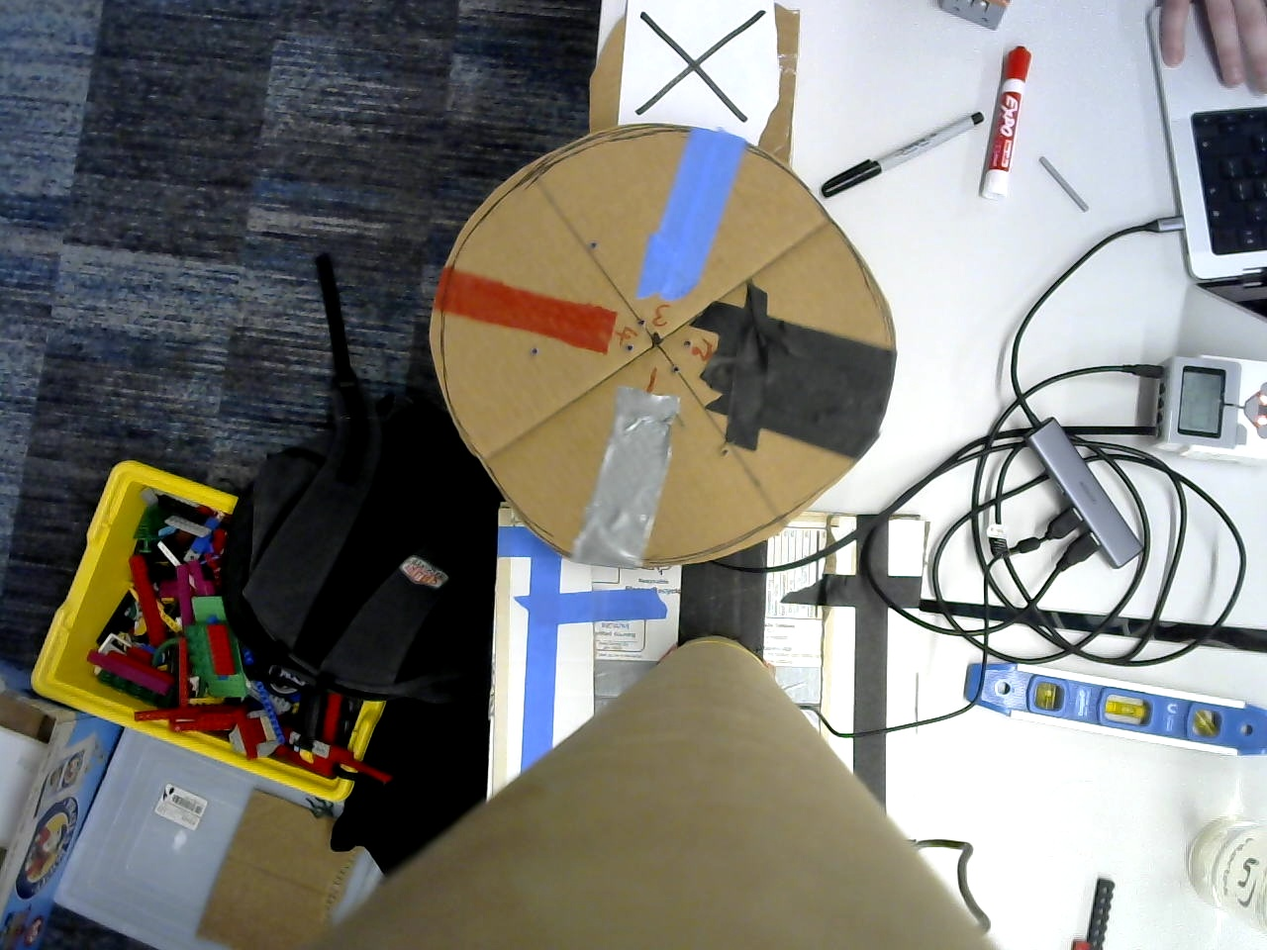black: (1197, 110, 1267, 247)
blue: (636, 128, 746, 301)
red: (433, 266, 617, 357)
silver: (573, 388, 679, 562)
x: (633, 7, 763, 120)
